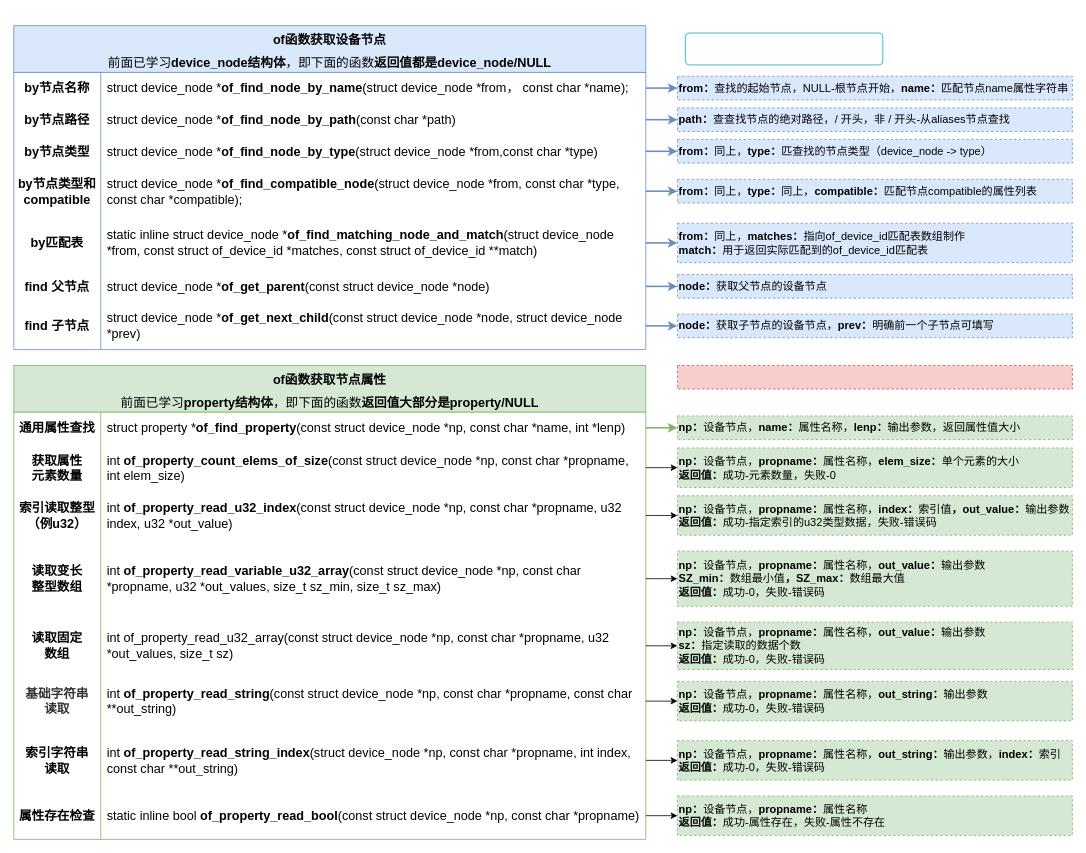
Image size: 1086x853. Some labels were removed from this diagram. Here are the shapes that lost their labels. From the top down, the centre of each, then its label:
At (x=784, y=48): "🌻Make By Dakkk".
At (x=874, y=377): "OF函数的声明 都可以在 内核源码/include/linux/of.h 中找到".
